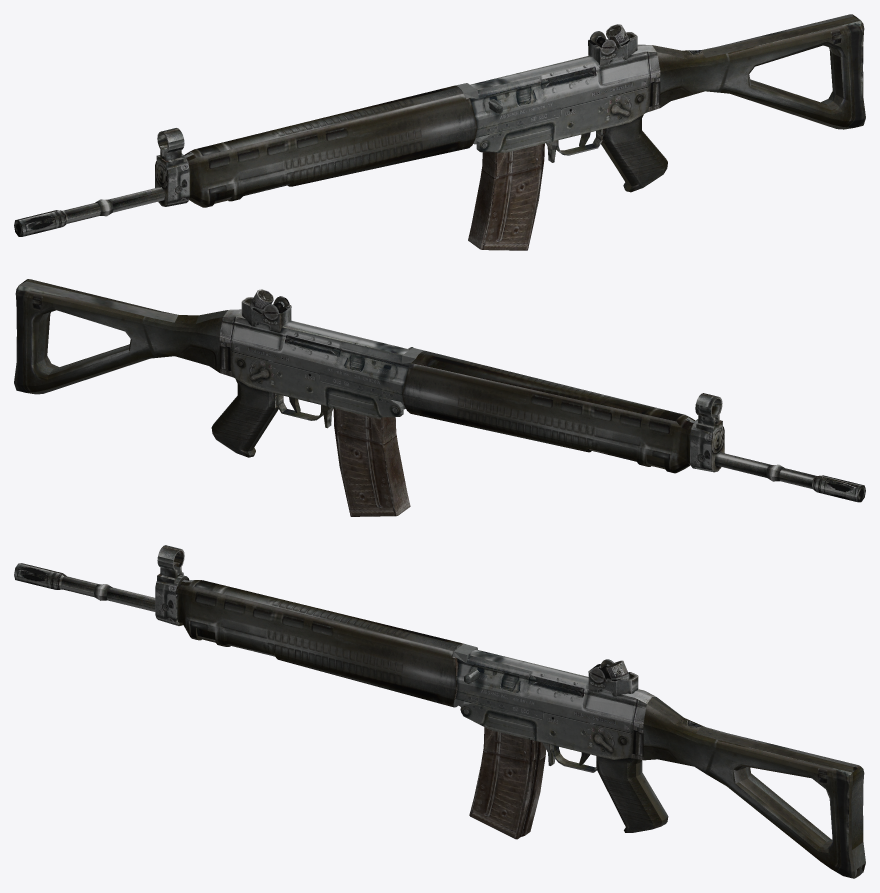
The model's file is w_sig550.obj.
3 views of the same model, one above another, from view 1: azimuth 30°, elevation 25°; view 2: azimuth 150°, elevation 25°; view 3: azimuth 330°, elevation 25° (orthographic).
Visible parts, largest first — view 1: Sig550; view 2: Sig550; view 3: Sig550.
Part boxes in pixels (bbox=[...]): Sig550: bbox=[14, 14, 865, 250]; Sig550: bbox=[14, 279, 865, 516]; Sig550: bbox=[14, 545, 865, 878].
Bounding box in the file's own units: 13.63 × 3.12 × 0.7992.
